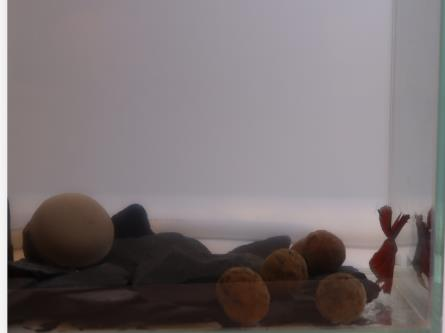fish: (371, 204, 411, 296)
